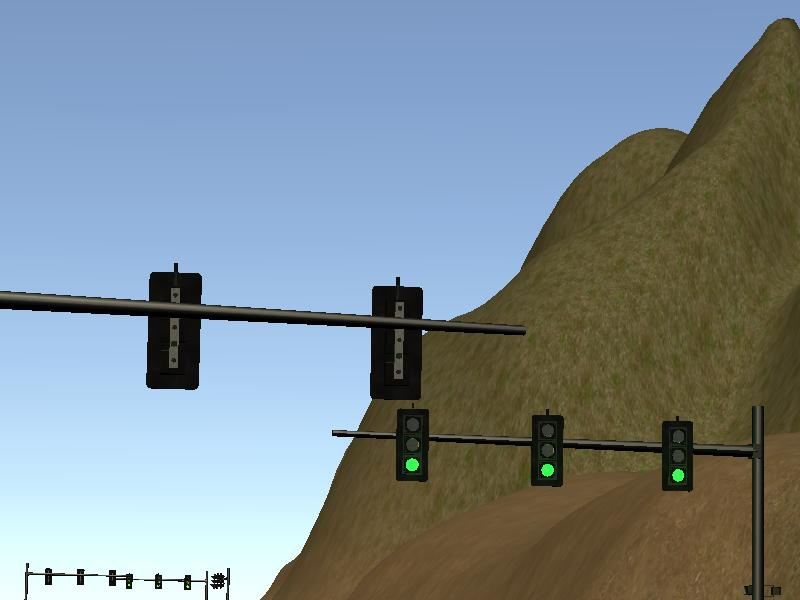Green: (532, 414, 562, 487), (662, 422, 692, 491), (398, 411, 427, 481), (184, 574, 192, 590), (127, 576, 132, 589)
Off: (155, 574, 163, 590)
